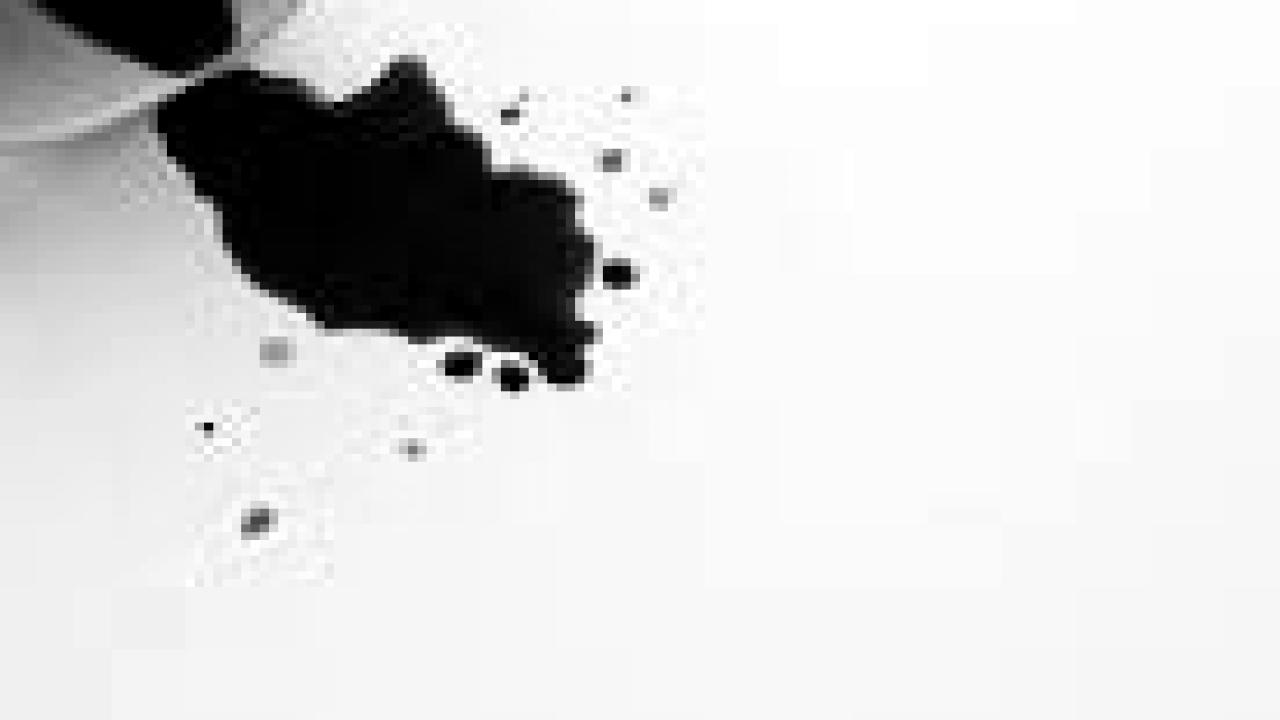drinks Stains: (183, 78, 744, 473)
